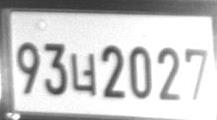0: (129, 46, 152, 98)
2: (100, 44, 125, 98), (157, 46, 180, 100)
3: (43, 43, 68, 95)
7: (184, 48, 208, 99)
9: (16, 41, 40, 93)
너: (70, 53, 96, 96)
